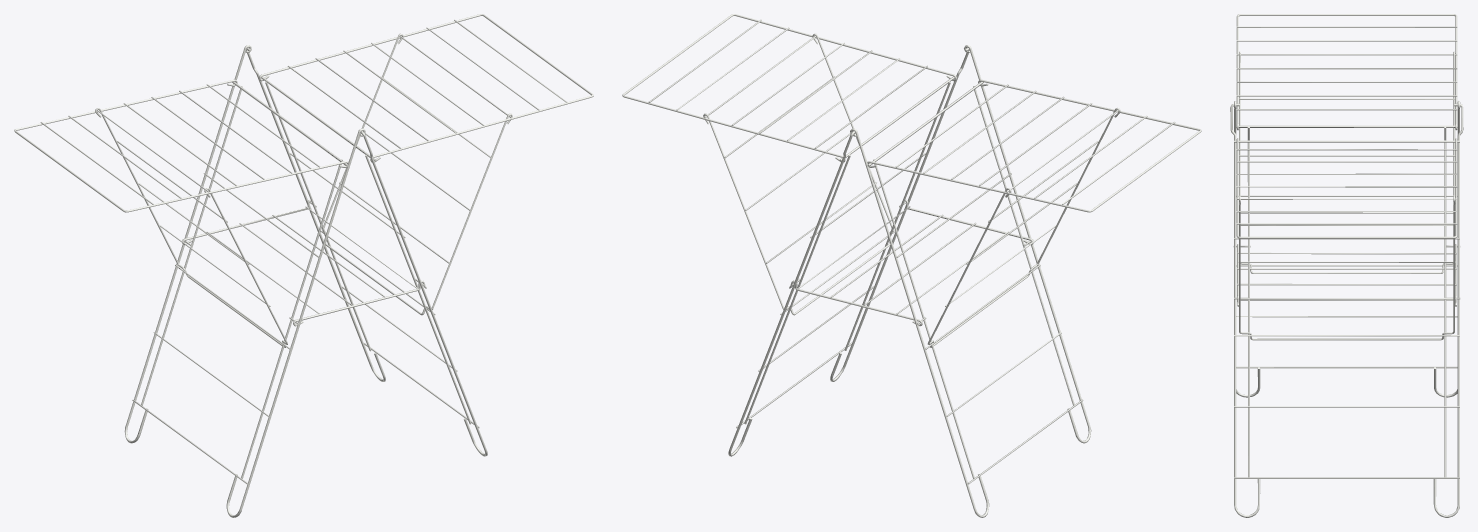
Rendered from frost_suszarka_na_pranie_40244831.glb.
The picture shows the model from 3 angles, left to right: view 1: azimuth 30°, elevation 25°; view 2: azimuth 150°, elevation 25°; view 3: azimuth 270°, elevation 25°; orthographic projection.
Parts seen in each view (by area): view 1: frost_suszarka_na_pranie_40244831; view 2: frost_suszarka_na_pranie_40244831; view 3: frost_suszarka_na_pranie_40244831.
Boxes of the visible parts, x1,y1,x2,y2 form: frost_suszarka_na_pranie_40244831: (14, 14, 593, 517); frost_suszarka_na_pranie_40244831: (622, 14, 1201, 517); frost_suszarka_na_pranie_40244831: (1230, 14, 1463, 517).
Size of the model in its own units: 1.34 by 0.9878 by 0.5865.
1 material, 1 textured.
